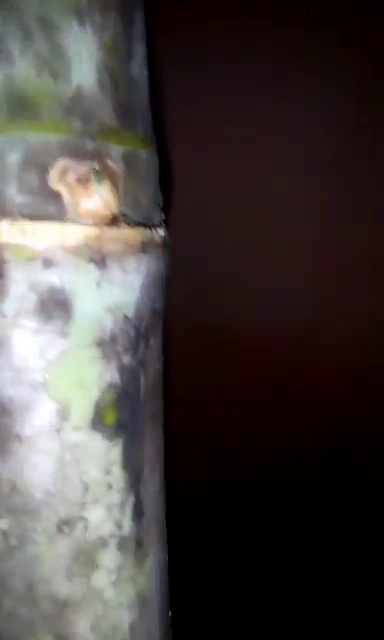cane eye: (44, 158, 127, 227)
